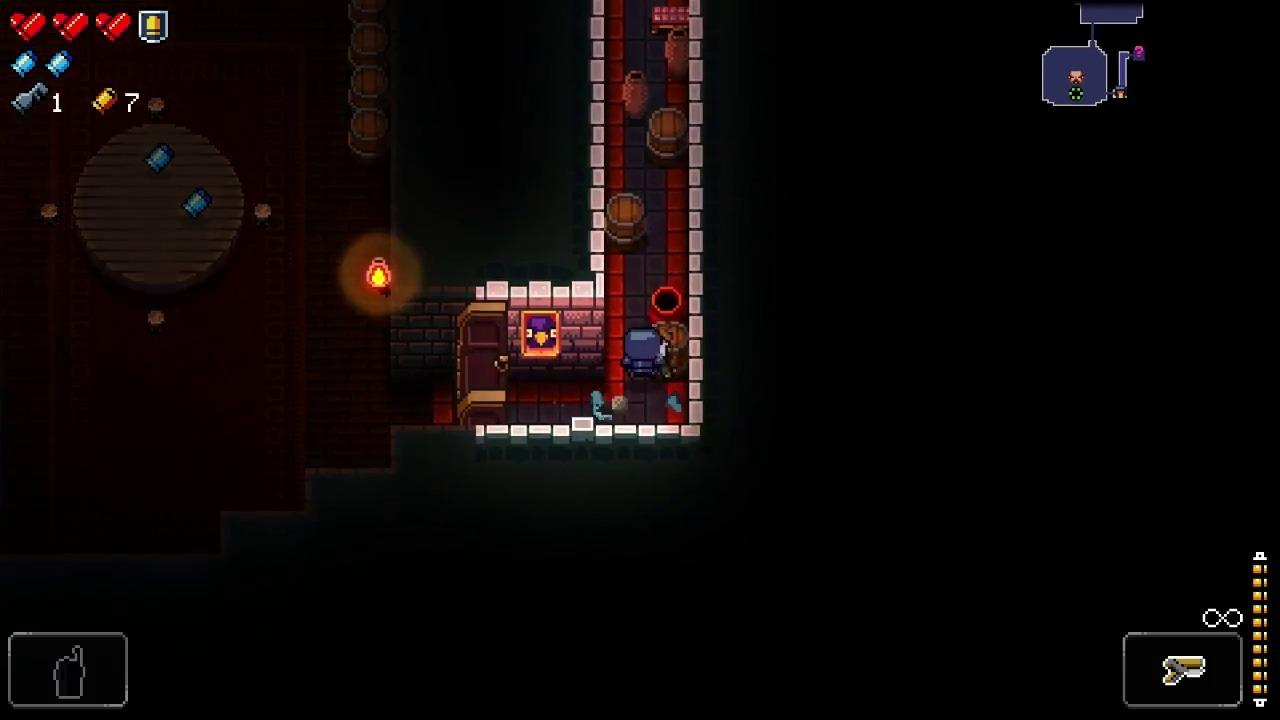player: (623, 329, 666, 383)
unlocked_door: (455, 303, 509, 425)
